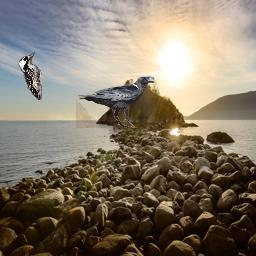Crow: (76, 75, 155, 128)
Woodpecker: (18, 52, 42, 100)
